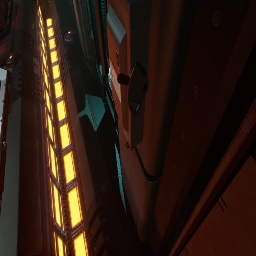SafetySwitchPanel ,: (106, 0, 152, 152)
